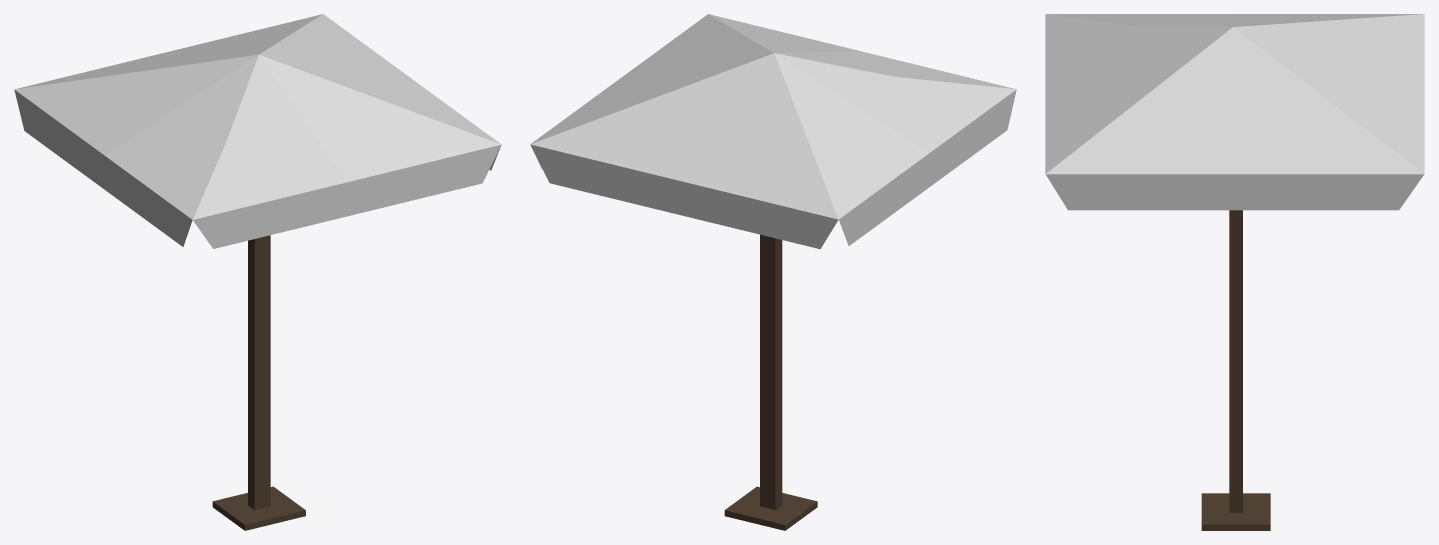
The model's file is pergolabar.fbx.
3 views of the same model, side by side, from view 1: azimuth 30°, elevation 25°; view 2: azimuth 150°, elevation 25°; view 3: azimuth 270°, elevation 25° (orthographic). The views are drawn at different scales.
Visible parts, largest first — view 1: Cube.187, Cube.188; view 2: Cube.187, Cube.188; view 3: Cube.187, Cube.188.
Part boxes in pixels (bbox=[...]): Cube.187: bbox=[14, 14, 501, 248]; Cube.188: bbox=[212, 235, 305, 530]; Cube.187: bbox=[530, 14, 1016, 249]; Cube.188: bbox=[724, 234, 817, 530]; Cube.187: bbox=[1045, 14, 1424, 210]; Cube.188: bbox=[1201, 210, 1270, 530].
Size of the model in its own units: 817 by 1158 by 817.
